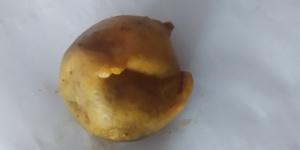BAD: (60, 14, 196, 147)
